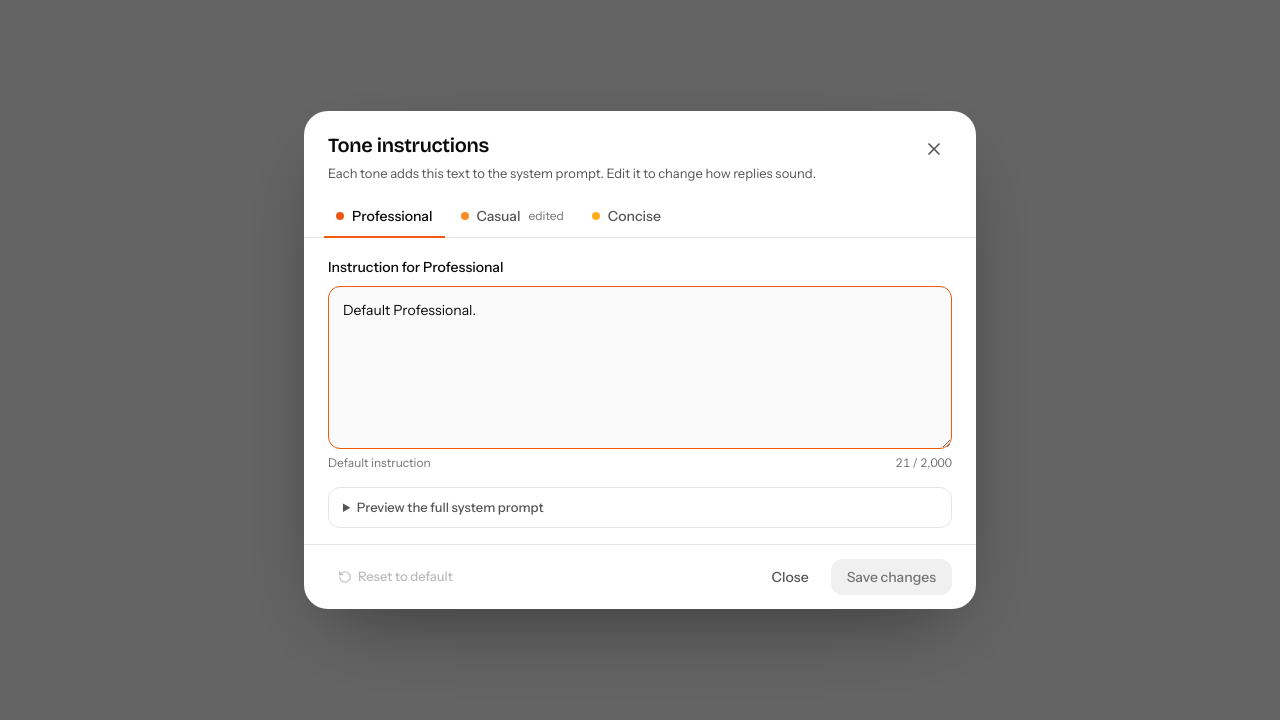
Test: ToneEditor › loads the instruction behind each tone
Expected: the text box labelled "Instruction for Professional" holds "Default Professional.", [328,286,952,449]
Click the tab "Casual edited": point(512, 217) [448,196,576,238]
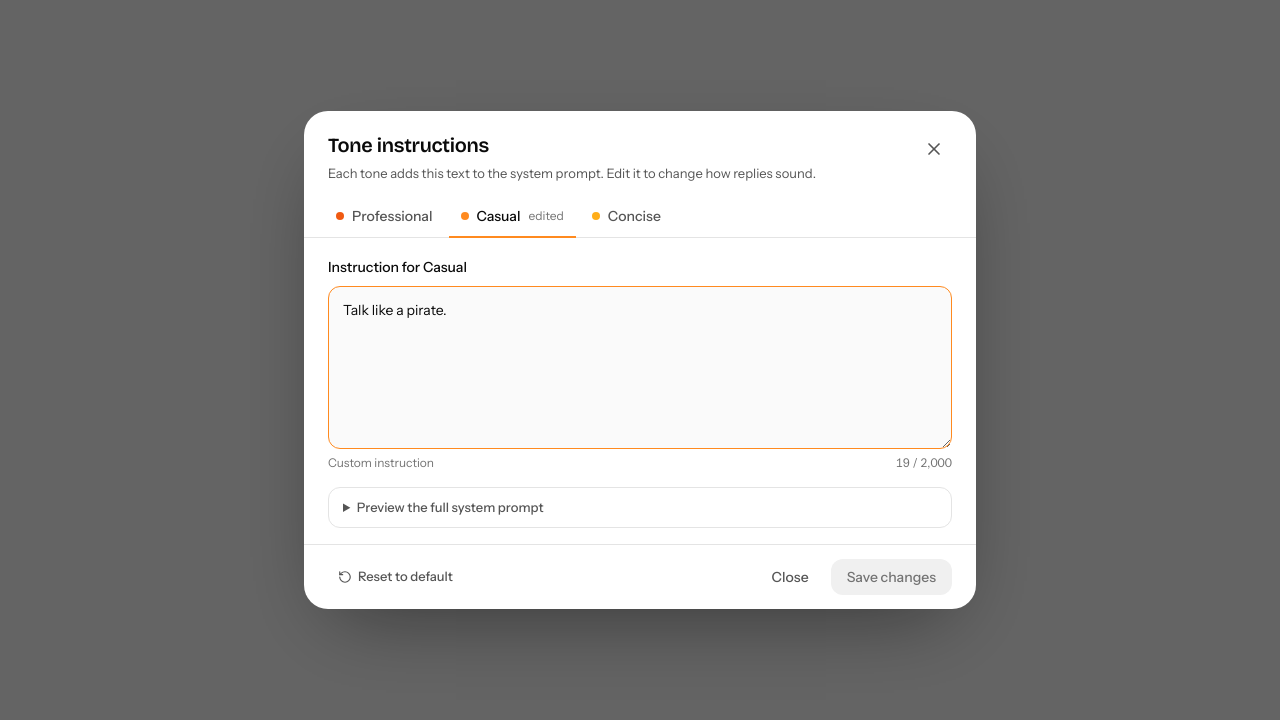
Expected: the text box labelled "Instruction for Casual" holds "Talk like a pirate.", [328,286,952,449]
